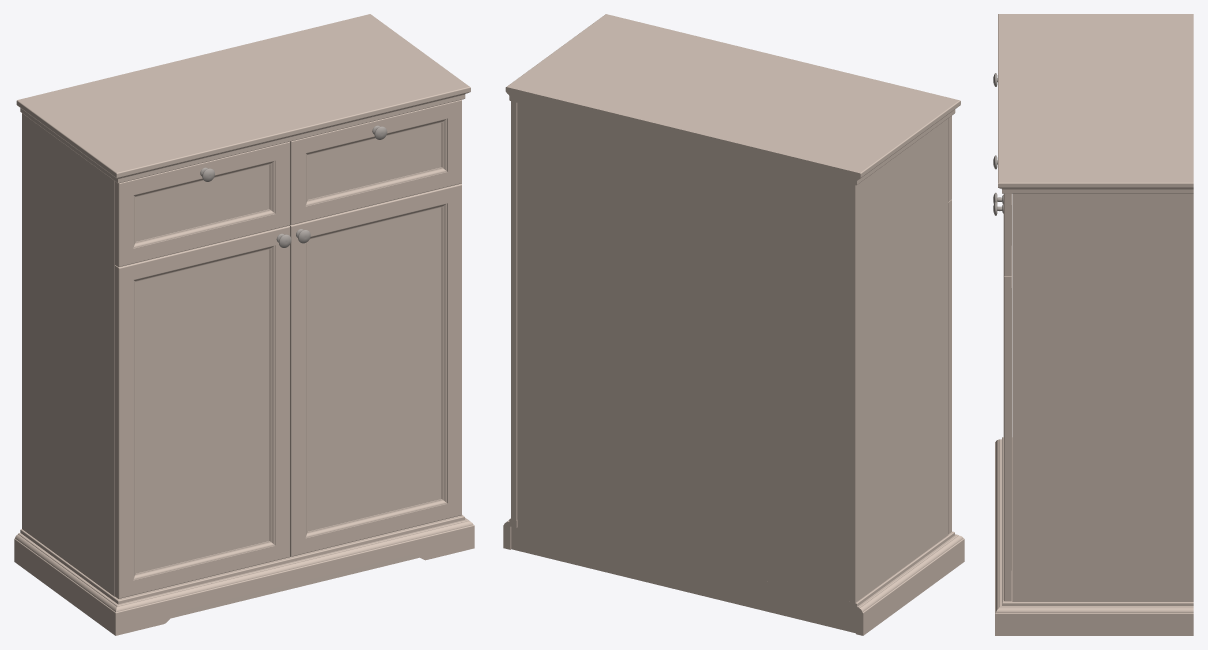
The model's file is obj_sadovn_sh_seyf_2_1bf6da.glb.
The picture shows the model from 3 angles, left to right: view 1: azimuth 30°, elevation 25°; view 2: azimuth 150°, elevation 25°; view 3: azimuth 270°, elevation 25°; orthographic projection. The views are drawn at different scales.
Visible parts, largest first — view 1: obj_sadovn_sh_seyf_2_1bf6da; view 2: obj_sadovn_sh_seyf_2_1bf6da; view 3: obj_sadovn_sh_seyf_2_1bf6da.
Part boxes in pixels (x1,y1,x2,y2): obj_sadovn_sh_seyf_2_1bf6da: (14, 14, 474, 635); obj_sadovn_sh_seyf_2_1bf6da: (503, 14, 964, 635); obj_sadovn_sh_seyf_2_1bf6da: (993, 14, 1193, 635).
Bounding box in the file's own units: 1.47 × 1.8 × 0.7238.
